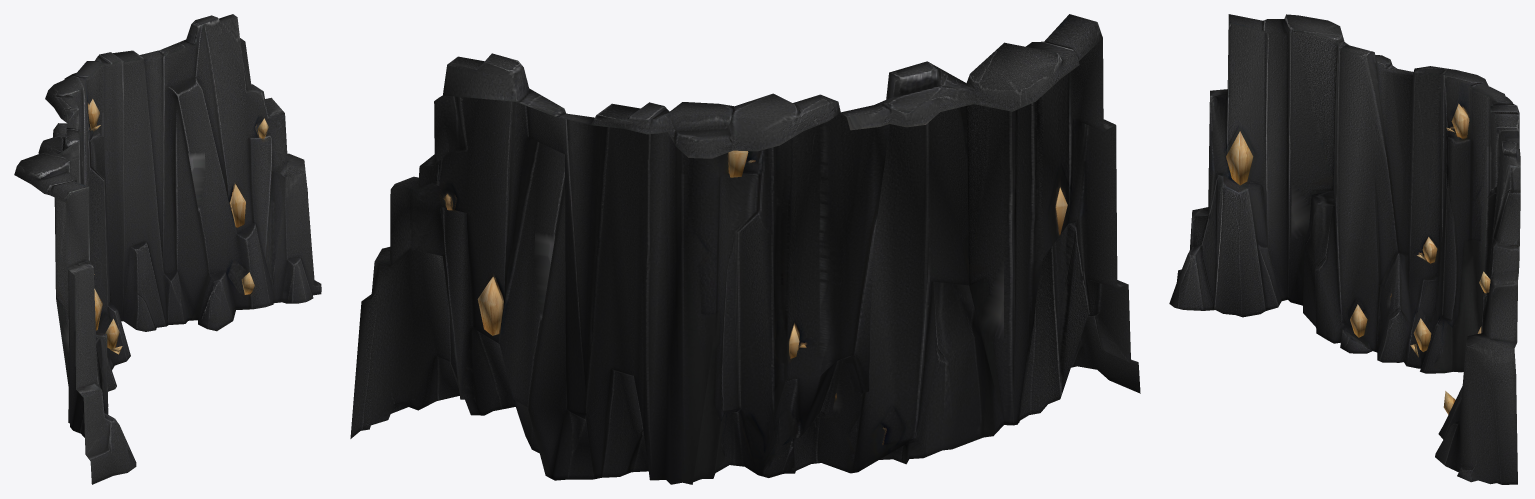
File: tripo_convert_9dc4d35d-efe1-4886-bb3e-6fb99a9b02ad.fbx
3 renders of one model, left to right at view 1: azimuth 30°, elevation 25°; view 2: azimuth 150°, elevation 25°; view 3: azimuth 270°, elevation 25°, orthographic. The views are drawn at different scales.
Visible parts, largest first — view 1: tripo_node_9dc4d35d; view 2: tripo_node_9dc4d35d; view 3: tripo_node_9dc4d35d.
Boxes of the visible parts, bbox=[...] form: tripo_node_9dc4d35d: bbox=[14, 14, 321, 484]; tripo_node_9dc4d35d: bbox=[350, 14, 1140, 484]; tripo_node_9dc4d35d: bbox=[1169, 14, 1520, 484].
Bounding box in the file's own units: 0.998 × 0.7324 × 0.7754.
1 material, 1 textured.
